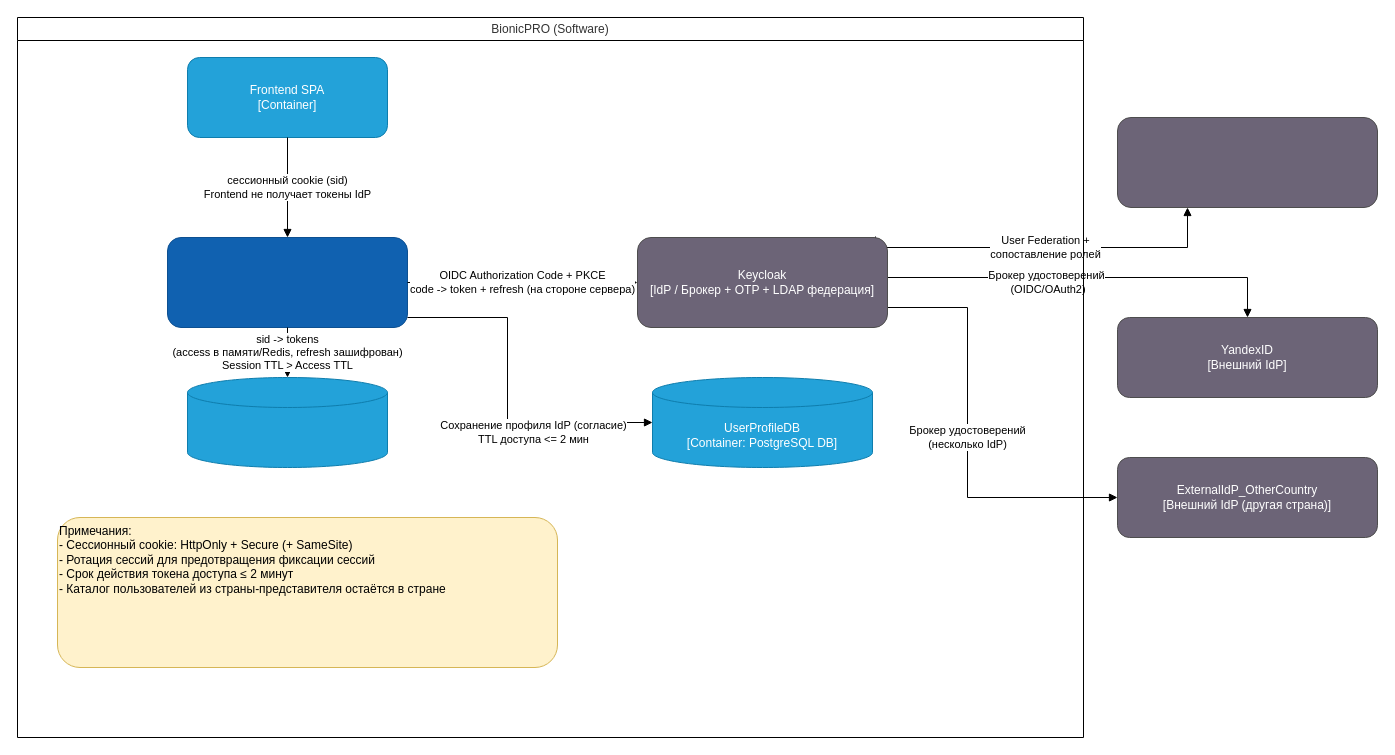
This 1395x755 diagram has some shape labels left out. The box of each missing label's shape, as (x1, y1, x2, y2) in pixels:
bionicpro-auth [Container: Backend-for-Frontend]: (166, 236, 408, 328)
OpenLDAP [Внешний каталог пользователей (в стране-представителе)]: (1116, 116, 1378, 208)
Хранилище сессий (Redis) [Container]: (186, 376, 388, 468)
